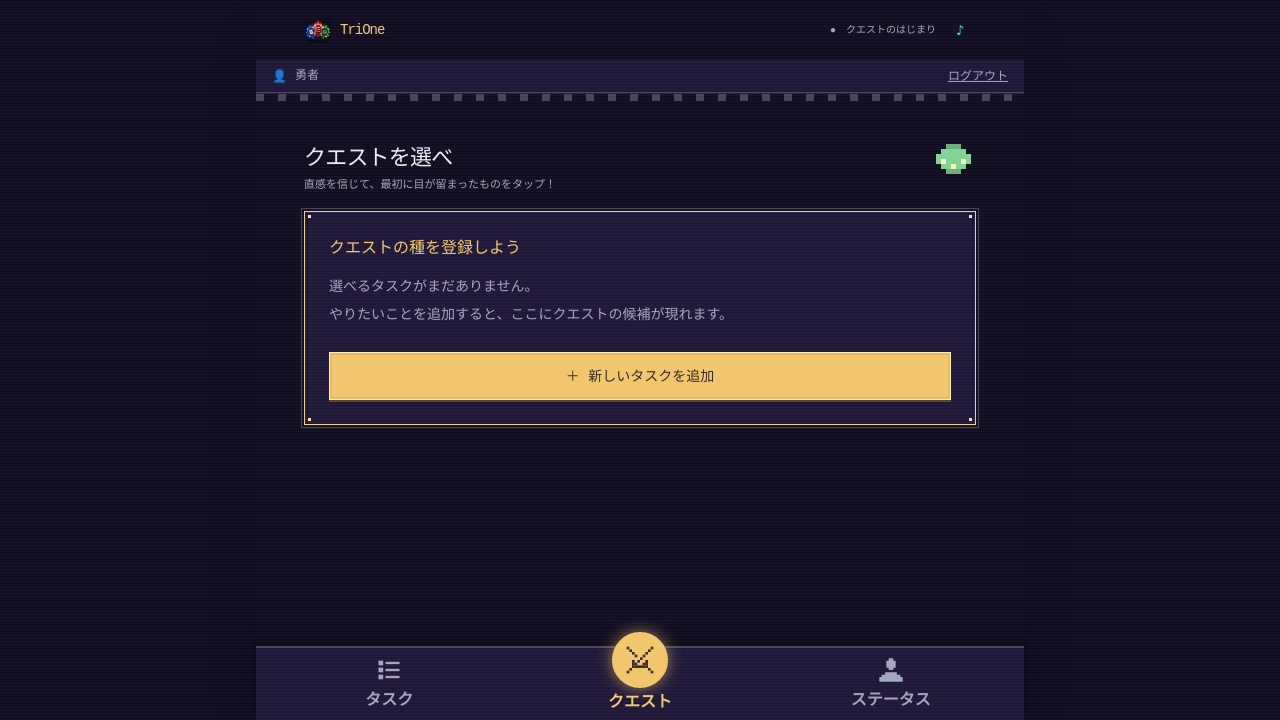
Test case: タスク登録と3択の画面遷移 › 初回はクエストを表示し、空の状態からタスク名・期限だけの作成画面に進める
Check: the heading "クエストを選べ" is shown, box x1=304 y1=145 x2=452 y2=170
Step 1. Click the button "＋ 新しいタスクを追加" → (640, 376), box x1=329 y1=352 x2=951 y2=400
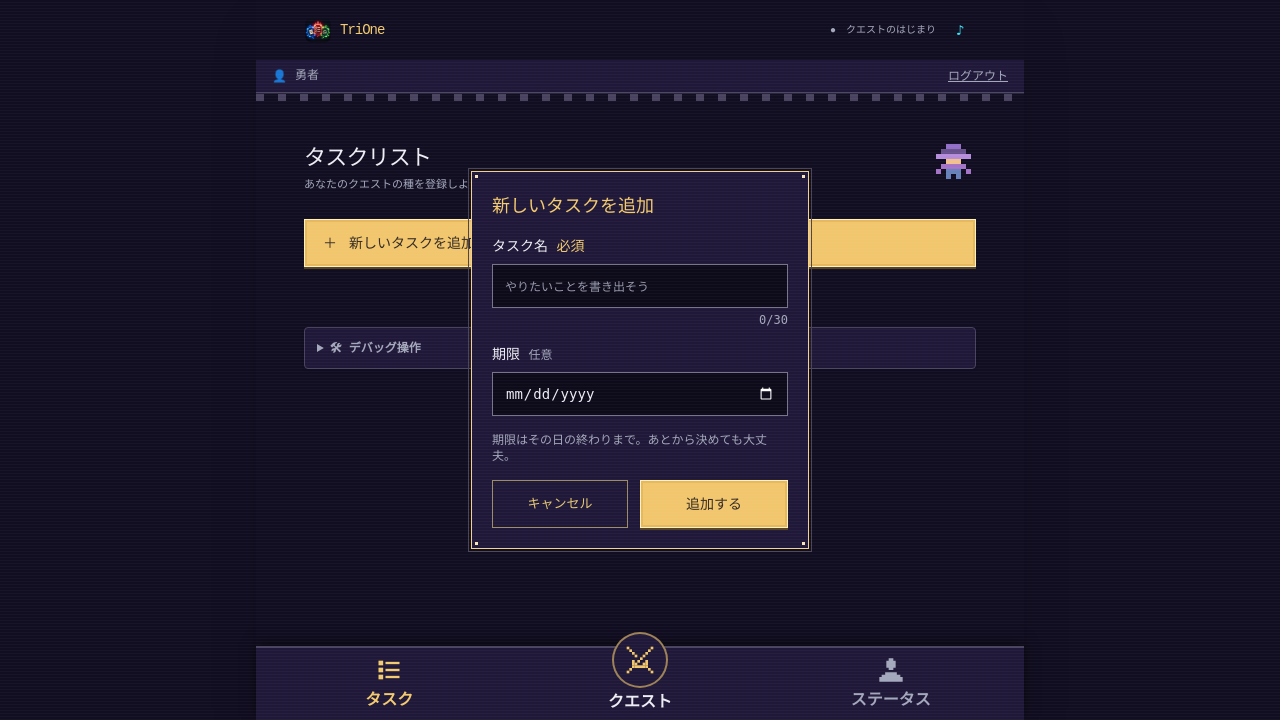
Check: the field labelled "タスク名 必須" is shown, box x1=492 y1=264 x2=788 y2=308
